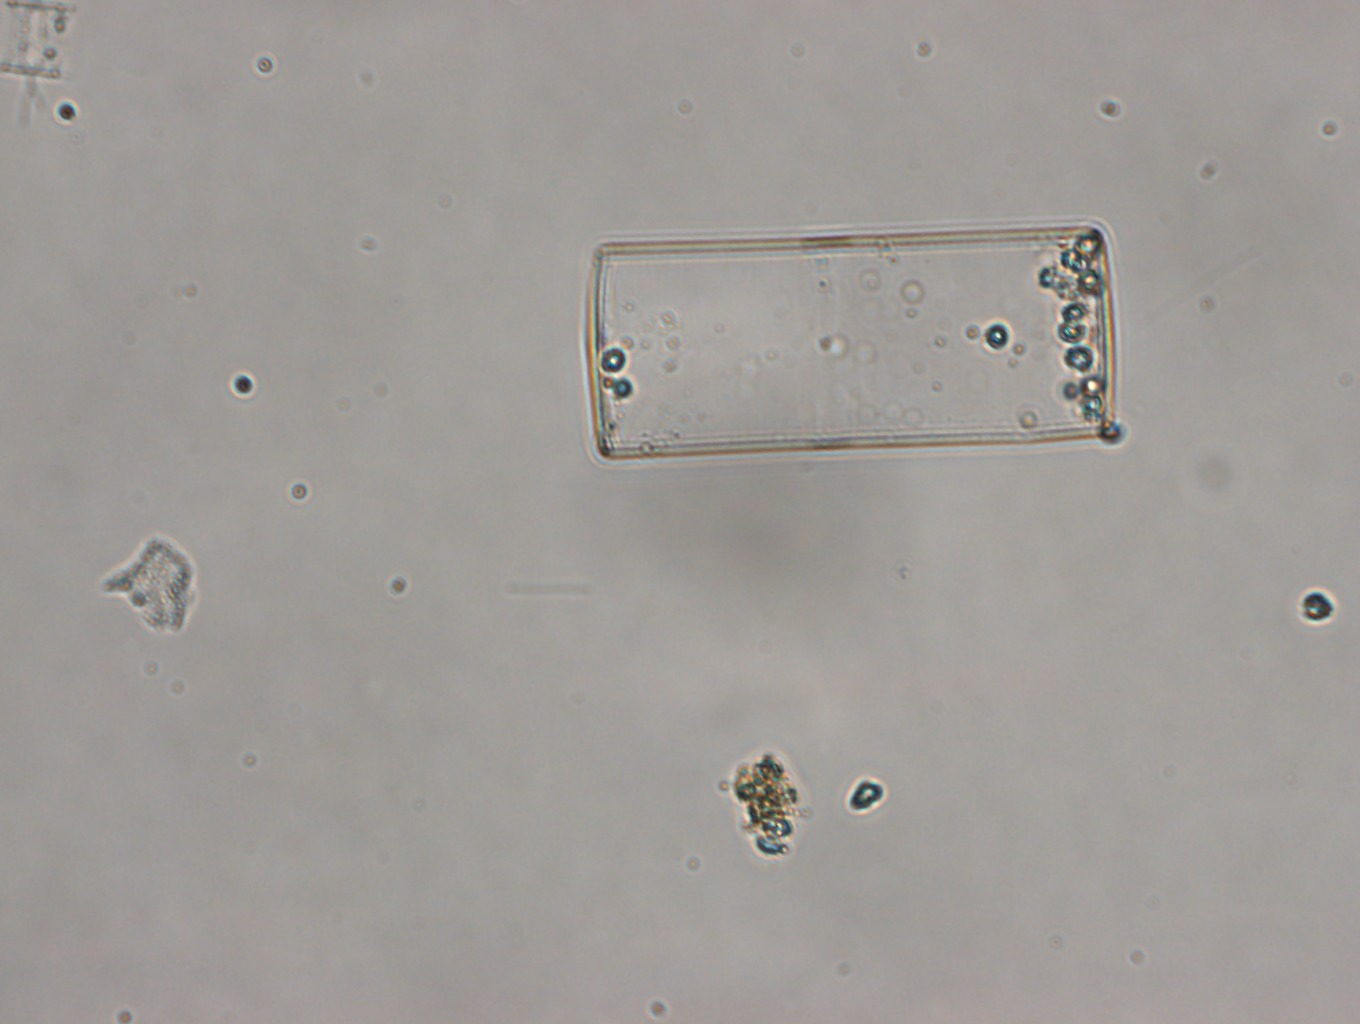guinardia flaccida: (579, 217, 1121, 461)
